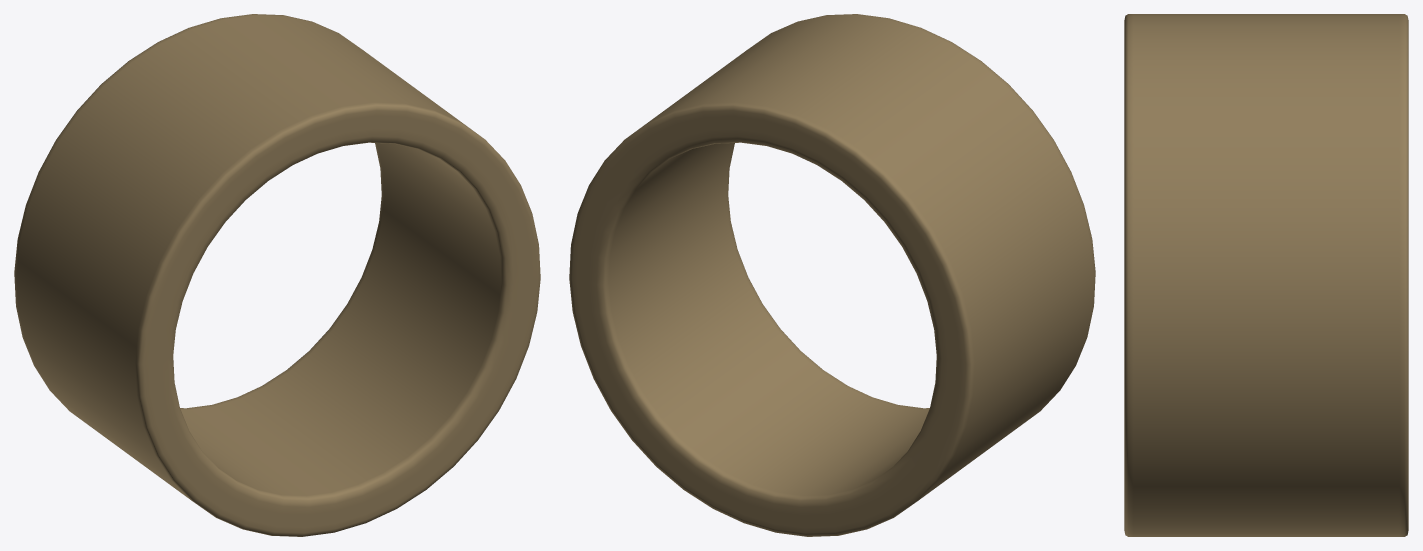
Rendered from 6-smallwheel-B.dae.
3 views of the same model, side by side, from view 1: azimuth 30°, elevation 25°; view 2: azimuth 150°, elevation 25°; view 3: azimuth 270°, elevation 25° (orthographic). The views are drawn at different scales.
Visible parts, largest first — view 1: Object012_Brown Beige_0; view 2: Object012_Brown Beige_0; view 3: Object012_Brown Beige_0.
Part boxes in pixels (x1=…): Object012_Brown Beige_0: x1=14, y1=14, x2=540, y2=536; Object012_Brown Beige_0: x1=569, y1=14, x2=1095, y2=536; Object012_Brown Beige_0: x1=1124, y1=14, x2=1408, y2=536.
Size of the model in its own units: 0.0543 by 0.0295 by 0.0543.
